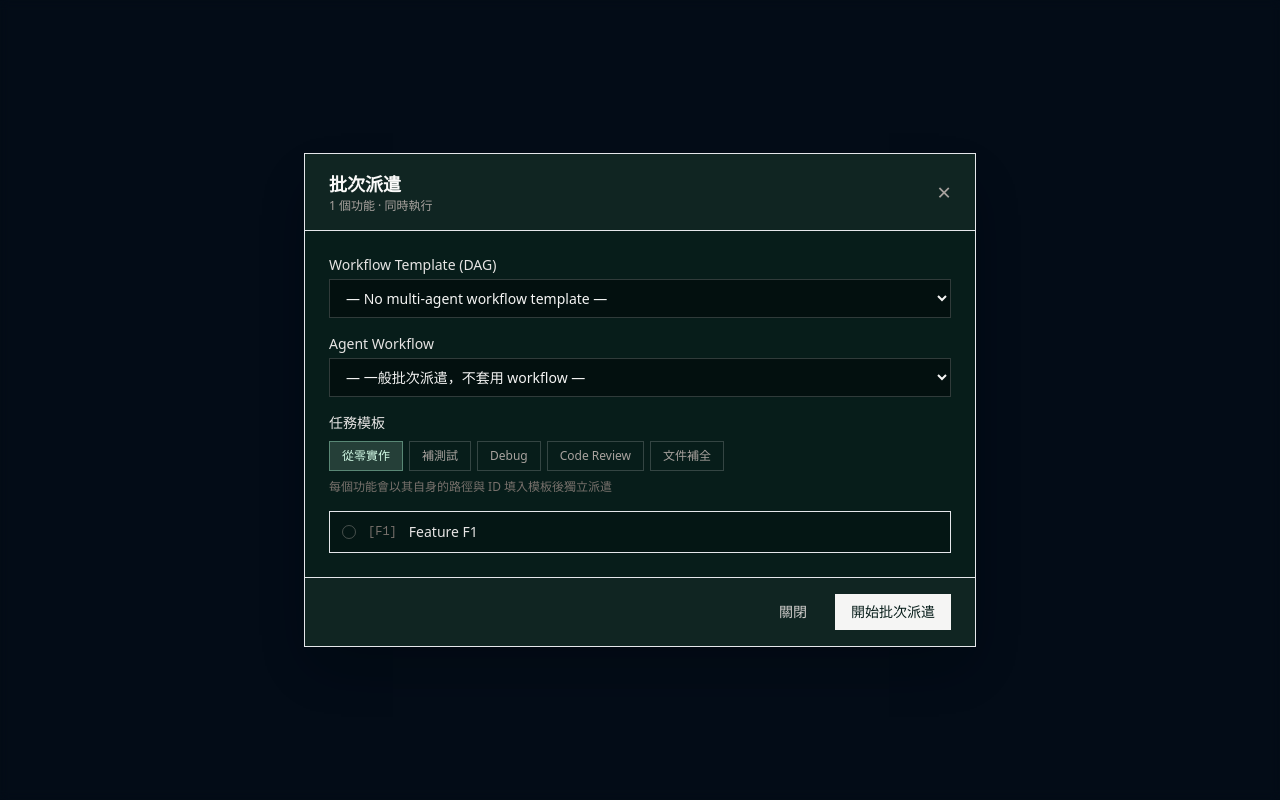
Test: BatchDispatchModal state handling › replays events that arrive before the spawn token is mapped
Click the button "開始批次派遣" at (893,612), box [835, 594, 951, 630]
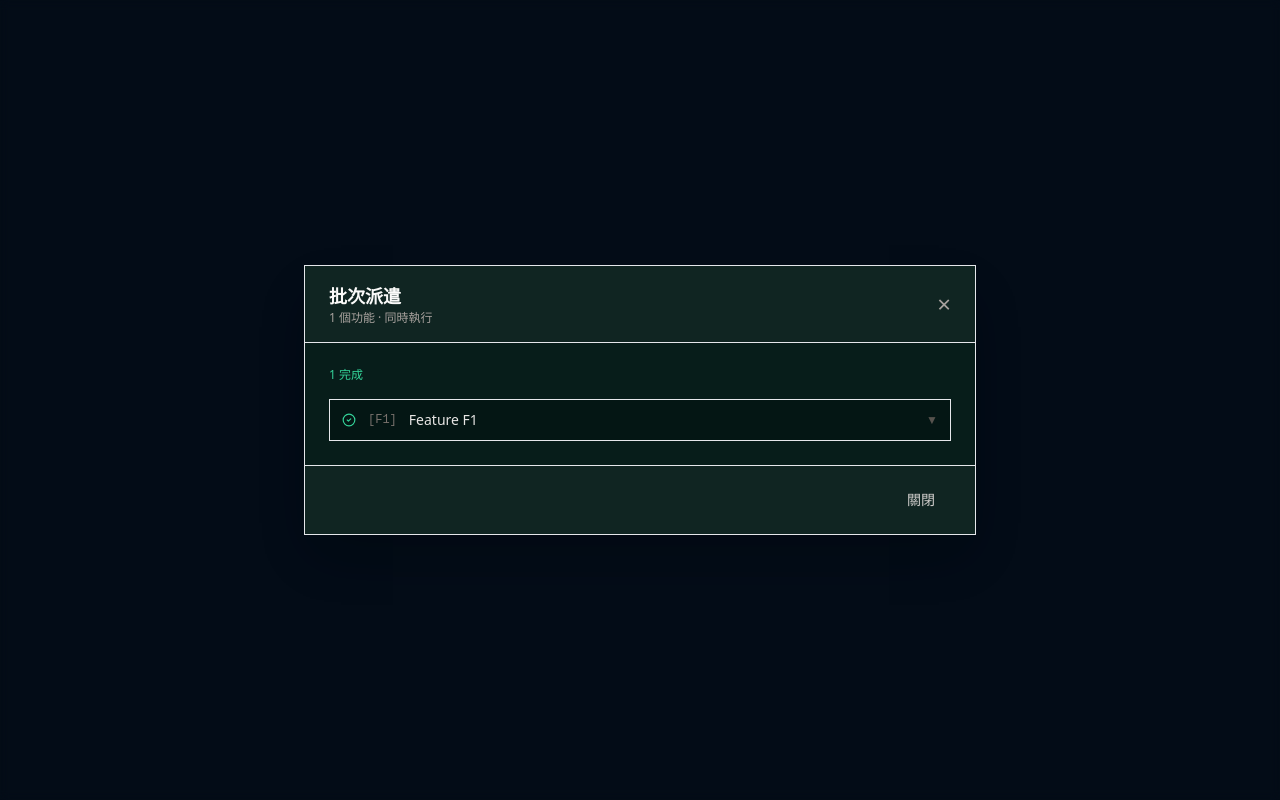
Result: the text "1 完成" is shown at [329, 367, 363, 383]
